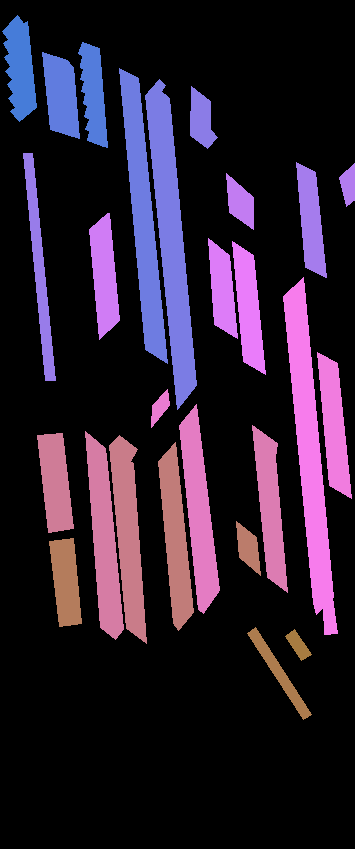parkingspot: (283, 277, 333, 614), (145, 79, 196, 409), (119, 68, 167, 363), (179, 404, 219, 613), (85, 431, 123, 639), (109, 435, 146, 643), (23, 153, 55, 380), (158, 442, 193, 630), (247, 627, 311, 719), (252, 425, 287, 592), (317, 352, 351, 498), (232, 241, 265, 374), (89, 213, 119, 339), (2, 15, 36, 121), (37, 433, 73, 532), (296, 162, 326, 277), (42, 52, 79, 138), (78, 42, 107, 147), (208, 238, 237, 338), (49, 538, 81, 626), (190, 86, 217, 148), (226, 173, 253, 229), (236, 521, 260, 575), (285, 629, 311, 660), (339, 163, 355, 206), (151, 389, 169, 427), (323, 597, 337, 634)
